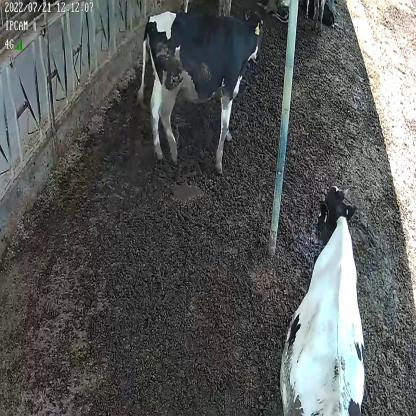cow: (138, 10, 264, 174), (280, 182, 367, 416)
